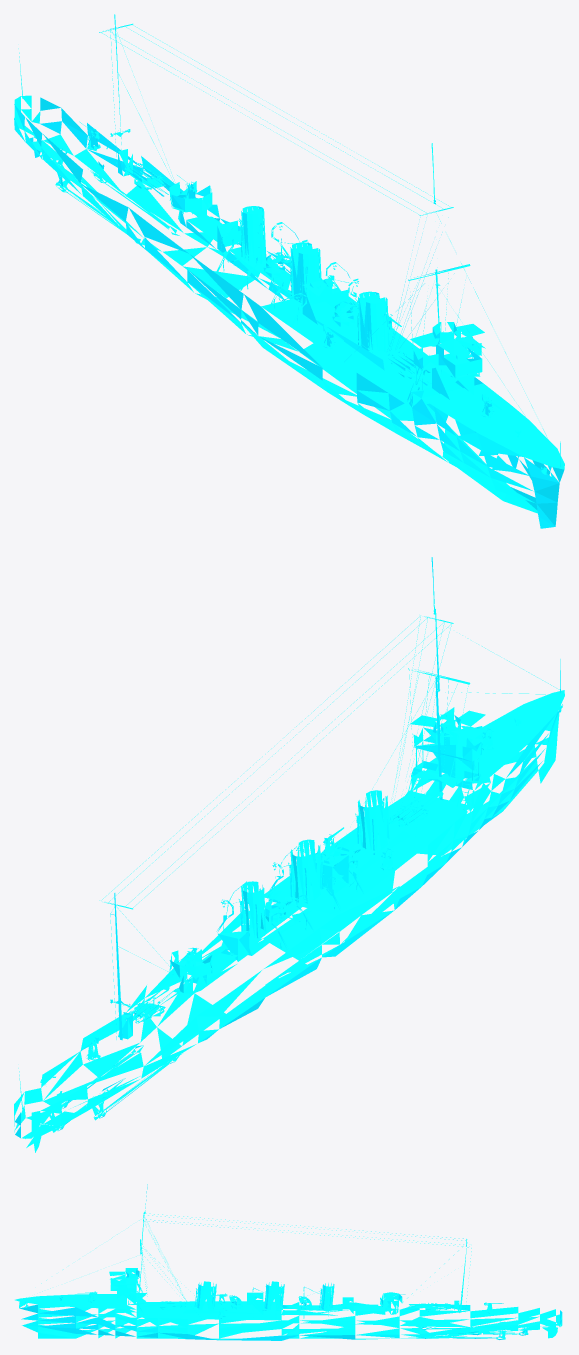
The model's file is PJSD001.glb.
3 renders of one model, top to bottom at view 1: azimuth 30°, elevation 25°; view 2: azimuth 150°, elevation 25°; view 3: azimuth 270°, elevation 25°, orthographic. The views are drawn at different scales.
Visible parts, largest first — view 1: hull_mid, hull_bow, hull_stern, torpedo, secondary_battery; view 2: hull_mid, hull_stern, hull_bow, torpedo, secondary_battery; view 3: hull_mid, hull_stern, hull_bow, torpedo, secondary_battery.
Part boxes in pixels (bbox=[...]): hull_mid: bbox=[102, 25, 493, 472]; hull_bow: bbox=[434, 213, 564, 528]; hull_stern: bbox=[14, 14, 219, 265]; torpedo: bbox=[124, 162, 431, 385]; secondary_battery: bbox=[79, 121, 501, 417]; hull_mid: bbox=[101, 557, 493, 1045]; hull_stern: bbox=[14, 893, 219, 1152]; hull_bow: bbox=[434, 627, 564, 839]; torpedo: bbox=[124, 788, 443, 1023]; secondary_battery: bbox=[78, 721, 502, 1060]; hull_mid: bbox=[109, 1184, 465, 1340]; hull_stern: bbox=[399, 1239, 562, 1339]; hull_bow: bbox=[15, 1220, 139, 1338]; torpedo: bbox=[143, 1301, 450, 1312]; secondary_battery: bbox=[77, 1291, 503, 1318].
Bounding box in the file's own units: 0.4841 × 1.73 × 5.59.
